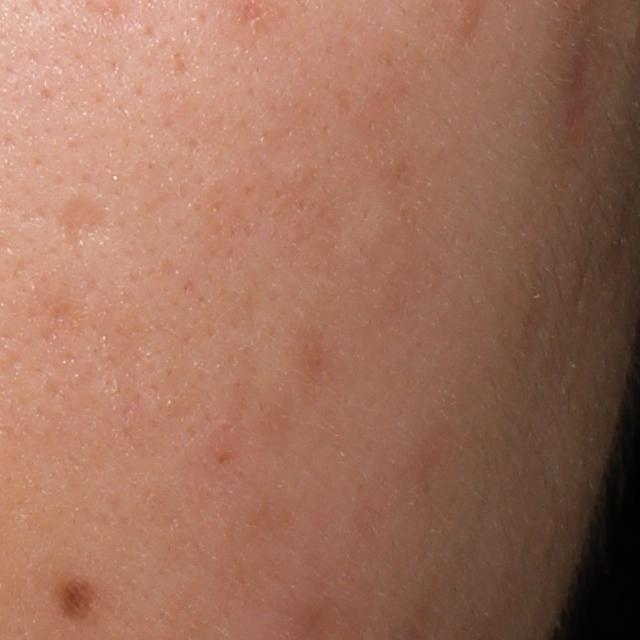atrophic_scar: (562, 24, 618, 131), (57, 188, 116, 254)
nevus: (52, 574, 99, 625)
